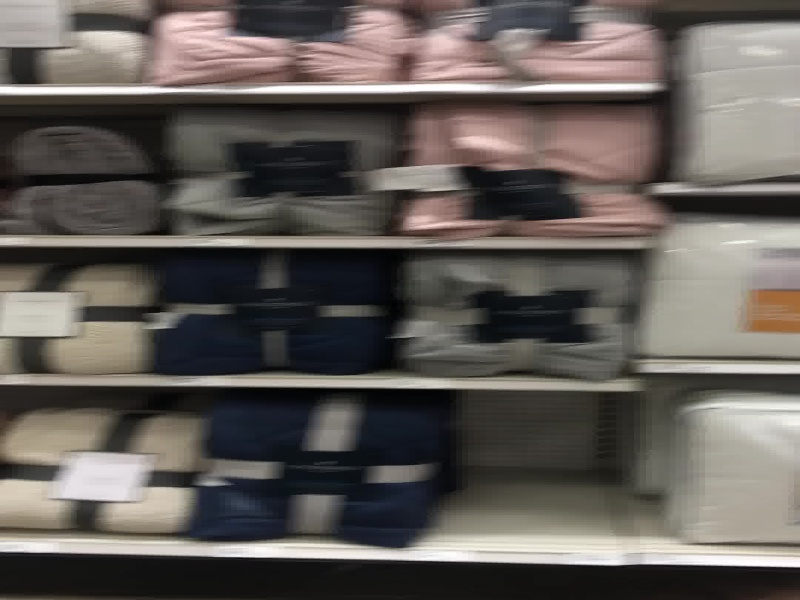empty_shelf_space: (433, 387, 650, 540)
